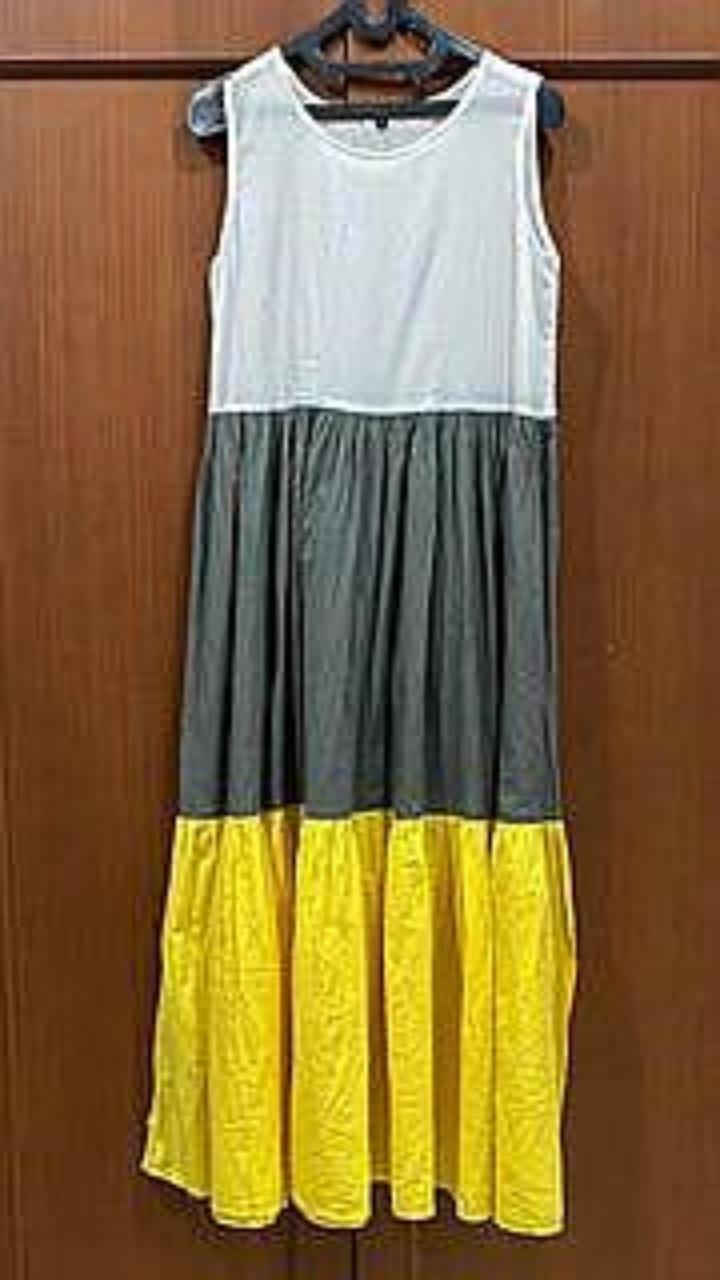Dresses: (142, 45, 575, 1234)
